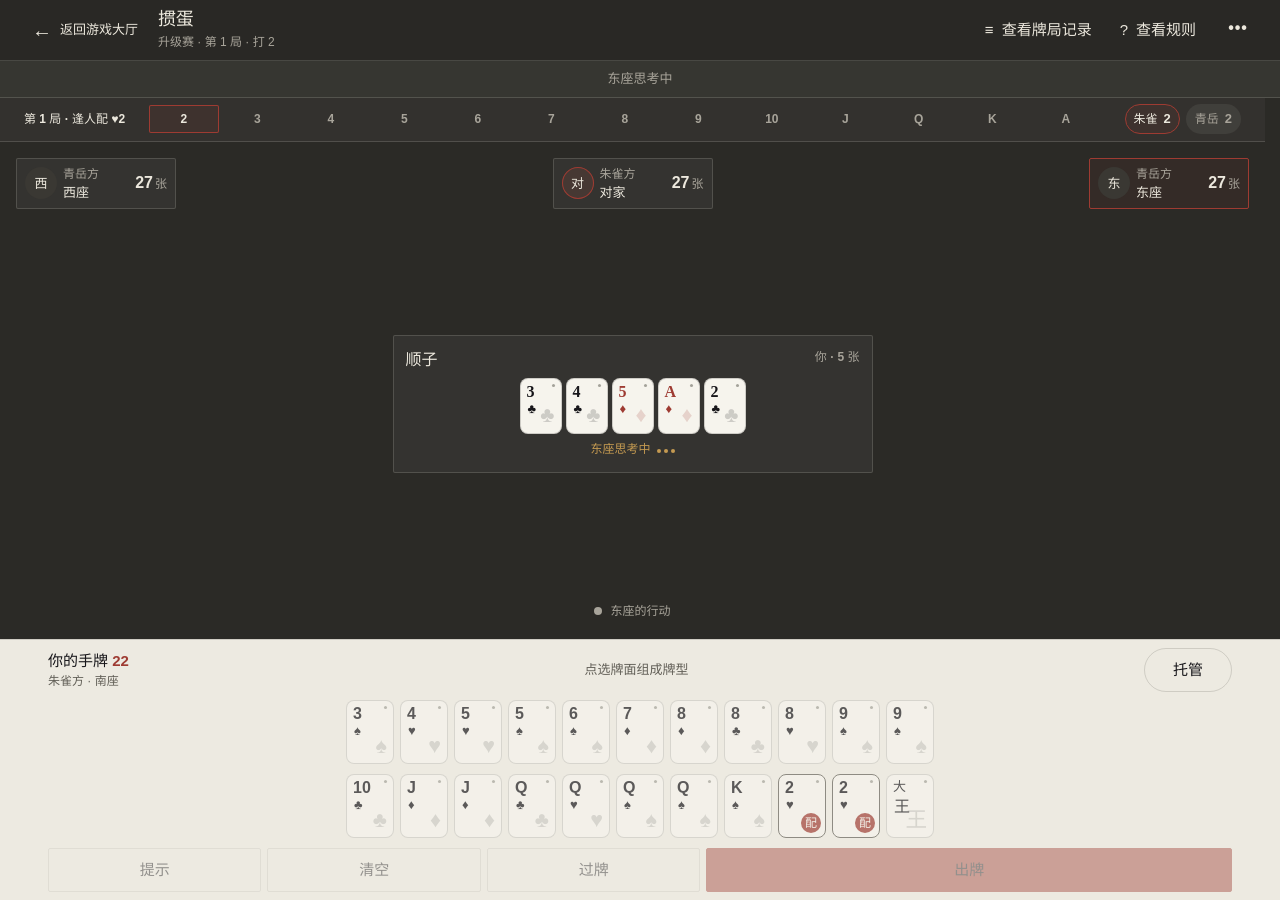
GuandanGame AI pacing › cancels a pending move while the record panel is open and restarts it on close
Click the button "≡ 查看牌局记录". click: (1038, 30)
box: top-left (973, 8), bottom-right (1104, 52)
Wait 1436 ms
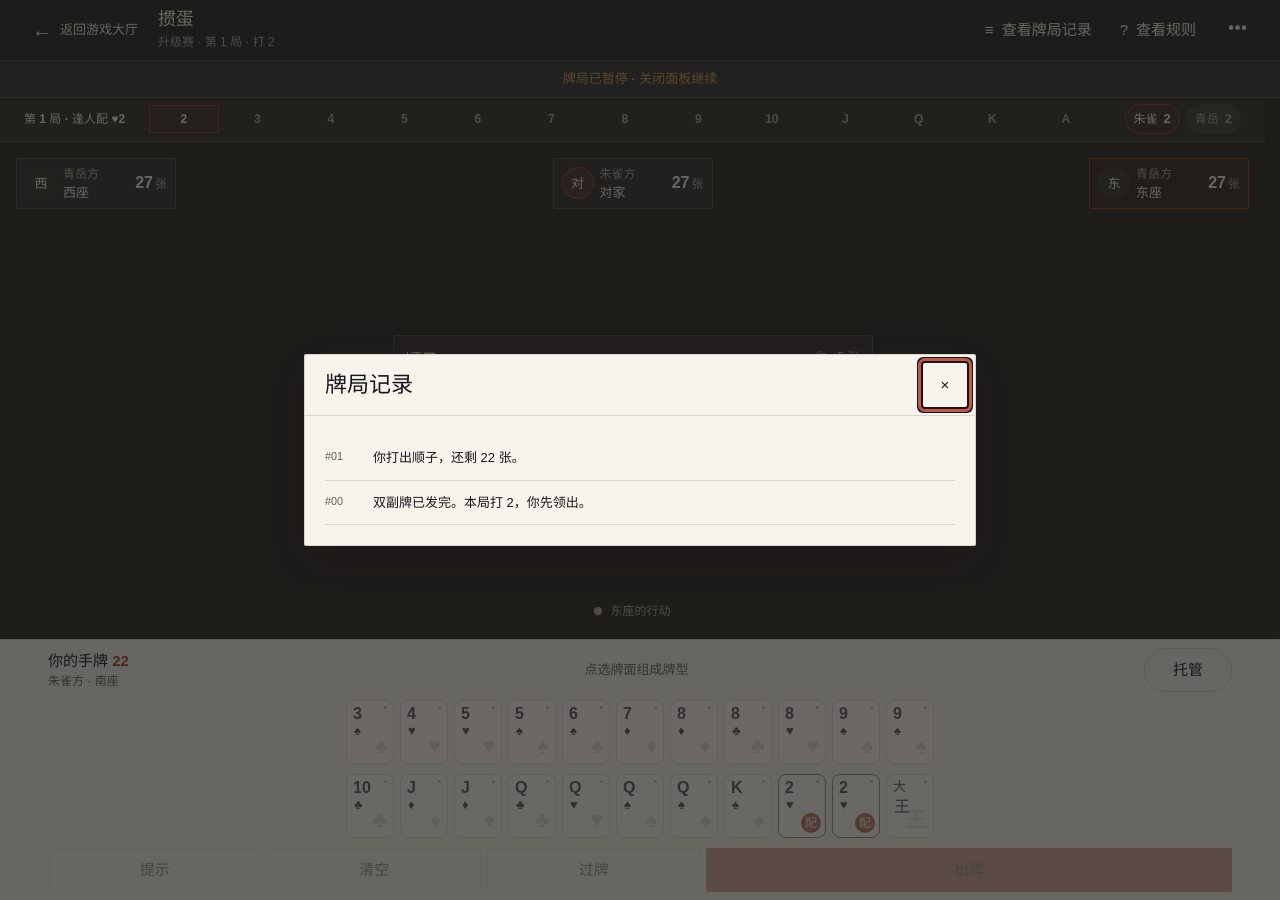
Expected: the text "东座的行动" is shown, top-left (610, 602), bottom-right (670, 620)
Click the button named "关闭牌局记录". click: (945, 385)
box: top-left (923, 363), bottom-right (967, 407)
Wait 1336 ms
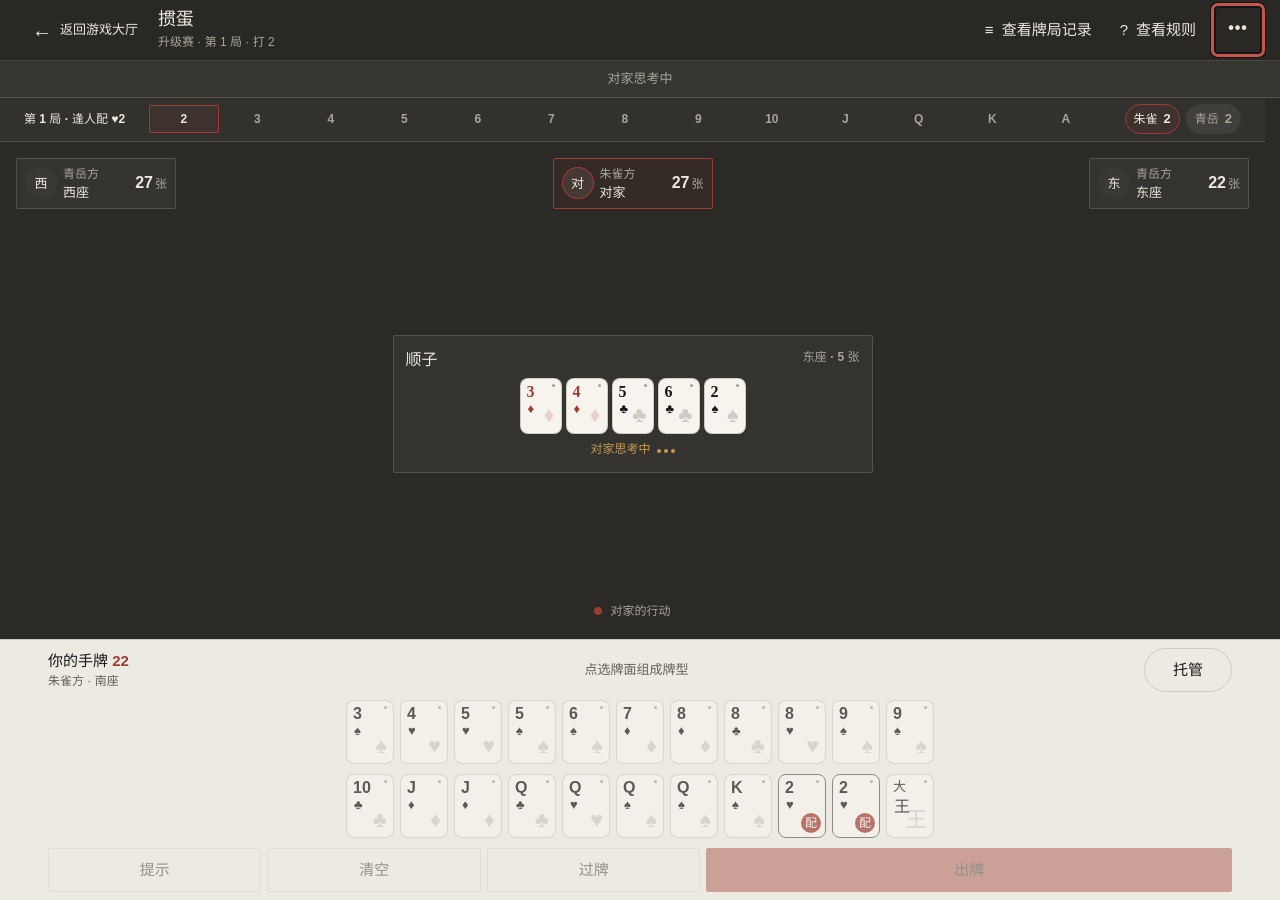
Result: the text "对家的行动" is shown at top-left (610, 602), bottom-right (670, 620)
